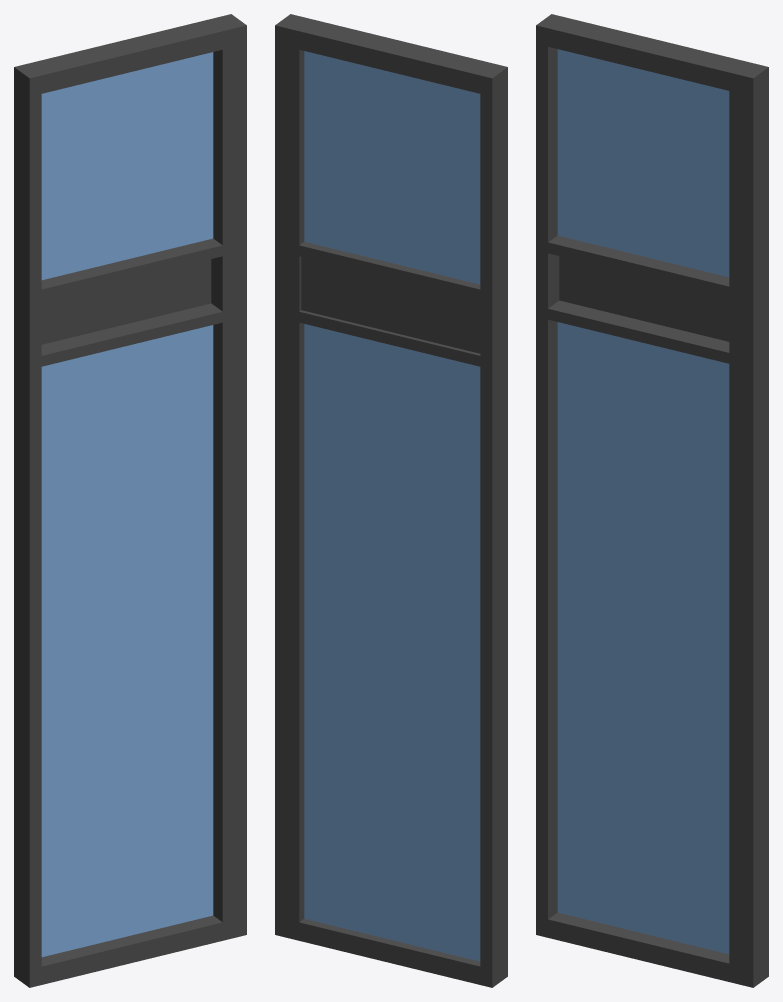
File: SM_DoorFrame_Right.fbx
3 renders of one model, left to right at view 1: azimuth 30°, elevation 25°; view 2: azimuth 150°, elevation 25°; view 3: azimuth 330°, elevation 25°, orthographic.
Parts seen in each view (by area): view 1: SM_DoorFrame_Right; view 2: SM_DoorFrame_Right; view 3: SM_DoorFrame_Right.
Part boxes in pixels (x1,y1,x2,y2): SM_DoorFrame_Right: (14,14,246,987); SM_DoorFrame_Right: (275,14,507,987); SM_DoorFrame_Right: (536,14,768,987).
Size of the model in its own units: 100 by 400 by 12.38.
